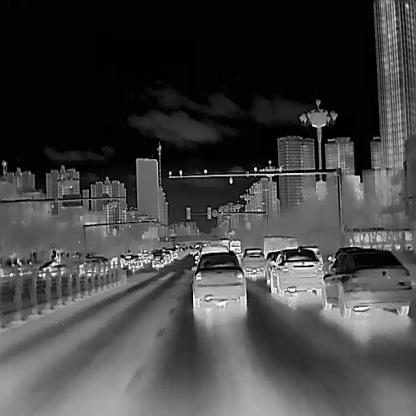car: (323, 248, 412, 316), (191, 253, 247, 306), (270, 249, 322, 296), (346, 227, 411, 250), (326, 246, 363, 270), (263, 236, 297, 258), (240, 247, 264, 275), (77, 256, 110, 276), (298, 245, 322, 268), (197, 244, 228, 261), (266, 249, 281, 283), (38, 260, 64, 275), (127, 254, 142, 268), (151, 251, 163, 267), (228, 239, 241, 253)
